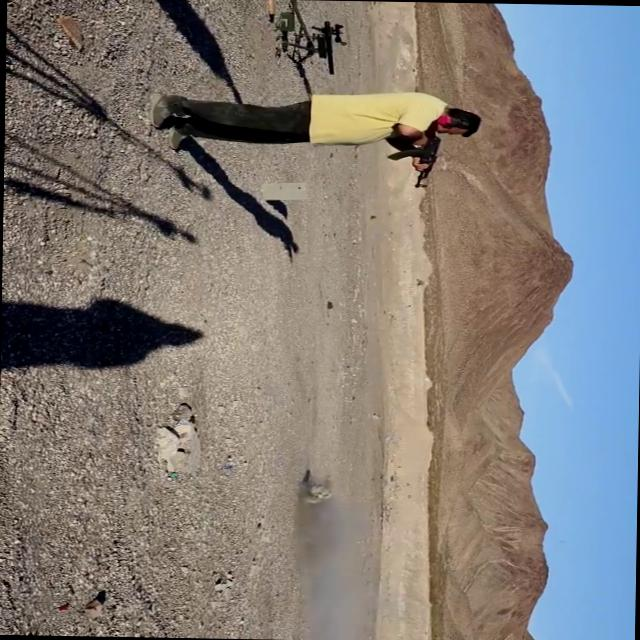long weapon: (382, 105, 462, 204), (280, 16, 375, 82)
